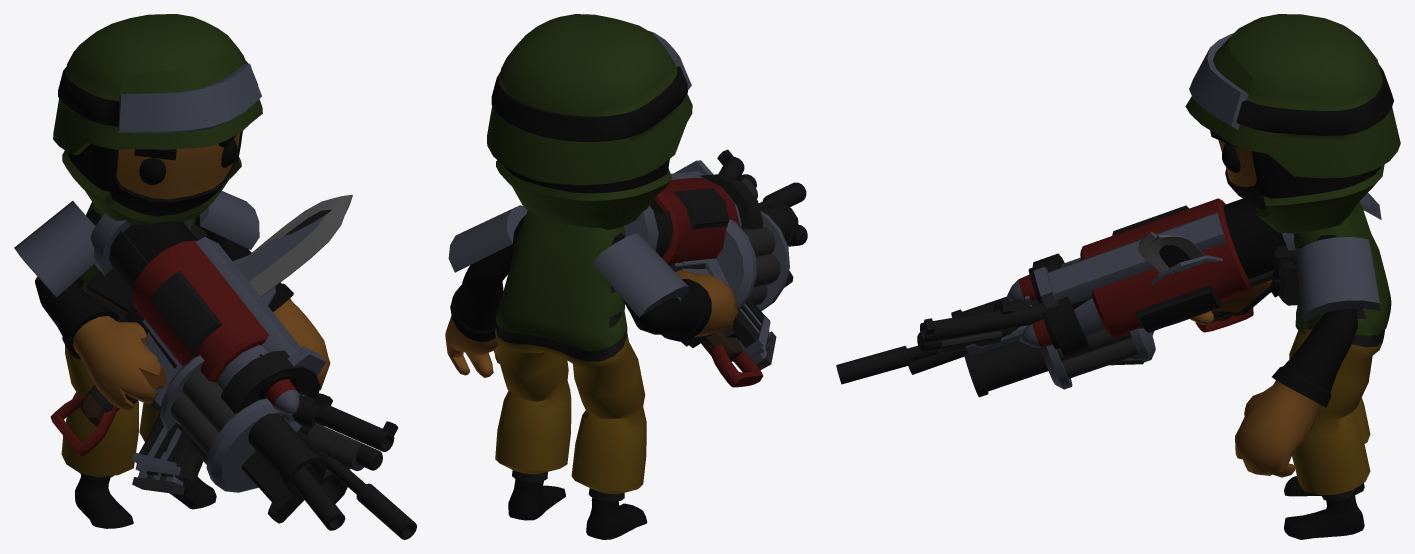
File: Character_Soldier.obj
The picture shows the model from 3 angles, left to right: view 1: azimuth 30°, elevation 25°; view 2: azimuth 150°, elevation 25°; view 3: azimuth 270°, elevation 25°; orthographic projection.
Parts seen in each view (by area): view 1: Body_Cube.004, Head_Cube.003, RocketLauncher_Cube.298, GrenadeLauncher_Cylinder.019, ShoulderPad.R_Cube.001, Knife_1_Cube.300, Sniper_Cube.312, Shotgun_Cube.283, Sniper_2_Cube.282, ShoulderPad.L_Cube.005, Shovel_Cylinder.025, Knife_2_Cylinder.027 (+3 smaller); view 2: Body_Cube.004, Head_Cube.003, RocketLauncher_Cube.298, GrenadeLauncher_Cylinder.019, ShoulderPad.R_Cube.001, ShoulderPad.L_Cube.005, Sniper_Cube.312, Shovel_Cylinder.025, Sniper_2_Cube.282, Shotgun_Cube.283, Knife_1_Cube.300, AK_Cube.276; view 3: Body_Cube.004, Head_Cube.003, RocketLauncher_Cube.298, GrenadeLauncher_Cylinder.019, ShoulderPad.L_Cube.005, Shotgun_Cube.283, Sniper_Cube.312, Knife_2_Cylinder.027, Shovel_Cylinder.025.
Boxes of the visible parts, bbox=[...] form: Body_Cube.004: bbox=[35, 131, 330, 528]; Head_Cube.003: bbox=[53, 14, 262, 185]; RocketLauncher_Cube.298: bbox=[90, 213, 325, 413]; GrenadeLauncher_Cylinder.019: bbox=[160, 355, 347, 523]; ShoulderPad.R_Cube.001: bbox=[14, 201, 96, 297]; Knife_1_Cube.300: bbox=[81, 199, 349, 426]; Sniper_Cube.312: bbox=[85, 289, 416, 539]; Shotgun_Cube.283: bbox=[297, 391, 398, 471]; Sniper_2_Cube.282: bbox=[87, 268, 345, 530]; ShoulderPad.L_Cube.005: bbox=[199, 191, 259, 249]; Shovel_Cylinder.025: bbox=[50, 256, 275, 455]; Knife_2_Cylinder.027: bbox=[90, 194, 352, 412]; Body_Cube.004: bbox=[445, 159, 737, 539]; Head_Cube.003: bbox=[487, 14, 692, 185]; RocketLauncher_Cube.298: bbox=[624, 160, 763, 271]; GrenadeLauncher_Cylinder.019: bbox=[716, 203, 798, 311]; ShoulderPad.R_Cube.001: bbox=[592, 233, 689, 317]; ShoulderPad.L_Cube.005: bbox=[448, 205, 527, 272]; Sniper_Cube.312: bbox=[734, 182, 806, 355]; Shovel_Cylinder.025: bbox=[710, 345, 763, 387]; Sniper_2_Cube.282: bbox=[682, 225, 807, 358]; Shotgun_Cube.283: bbox=[680, 149, 757, 346]; Knife_1_Cube.300: bbox=[701, 329, 742, 361]; AK_Cube.276: bbox=[675, 262, 776, 369]; Body_Cube.004: bbox=[1190, 140, 1391, 539]; Head_Cube.003: bbox=[1185, 14, 1400, 178]; RocketLauncher_Cube.298: bbox=[1006, 198, 1295, 357]; GrenadeLauncher_Cylinder.019: bbox=[951, 296, 1155, 397]; ShoulderPad.L_Cube.005: bbox=[1296, 237, 1381, 323]; Shotgun_Cube.283: bbox=[917, 279, 1279, 353]; Sniper_Cube.312: bbox=[836, 299, 1089, 384]; Knife_2_Cylinder.027: bbox=[1146, 235, 1204, 273]; Shovel_Cylinder.025: bbox=[1151, 255, 1253, 332].
Bounding box in the file's own units: 1.37 × 2.22 × 2.35.
